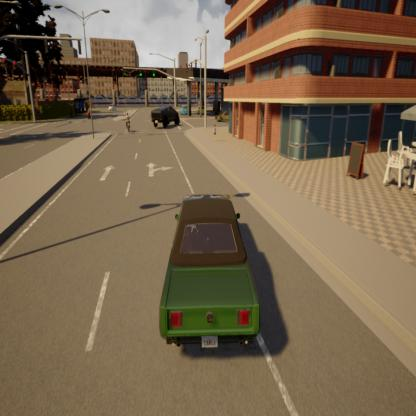Cars: (161, 197, 259, 348), (150, 105, 182, 130), (124, 110, 133, 133), (217, 109, 230, 122), (106, 102, 118, 114), (181, 101, 189, 116), (86, 105, 91, 122)
Pedestrian: (212, 117, 218, 137)
